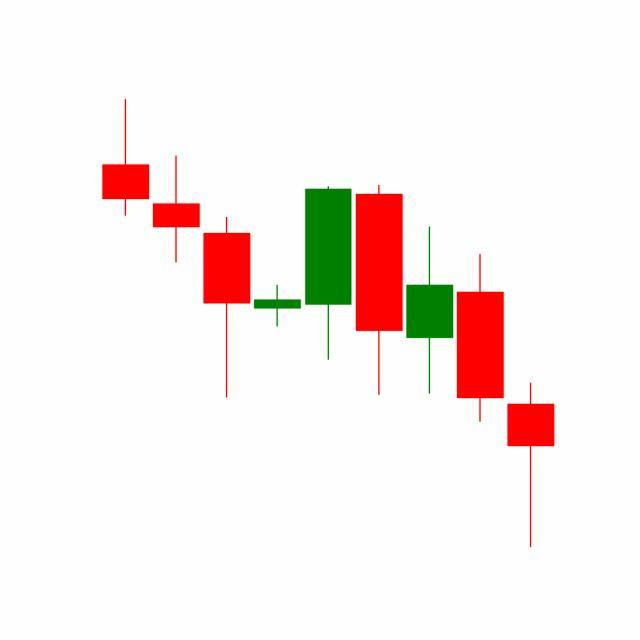Hikkake Pattern: (252, 182, 506, 425)
